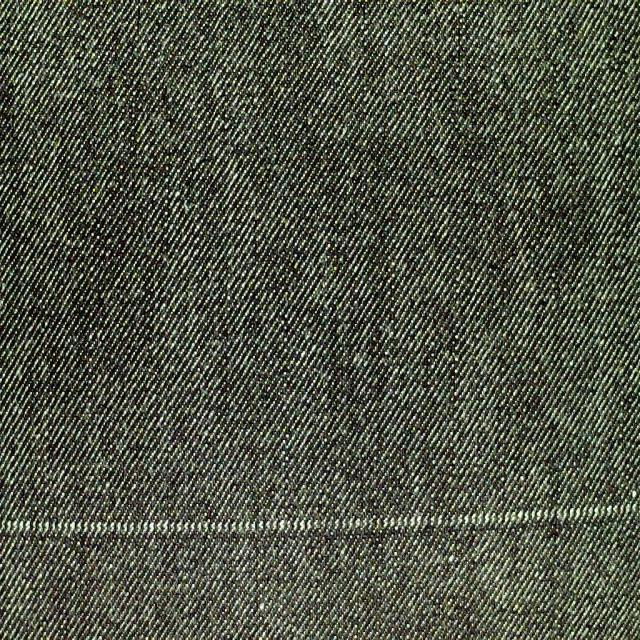Line: (0, 498, 640, 546)
